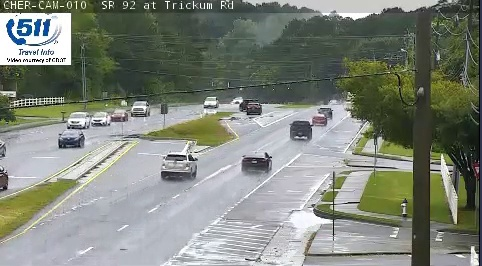car: (161, 153, 197, 176), (241, 151, 270, 170), (290, 120, 312, 140), (318, 107, 332, 119), (312, 114, 326, 126)
